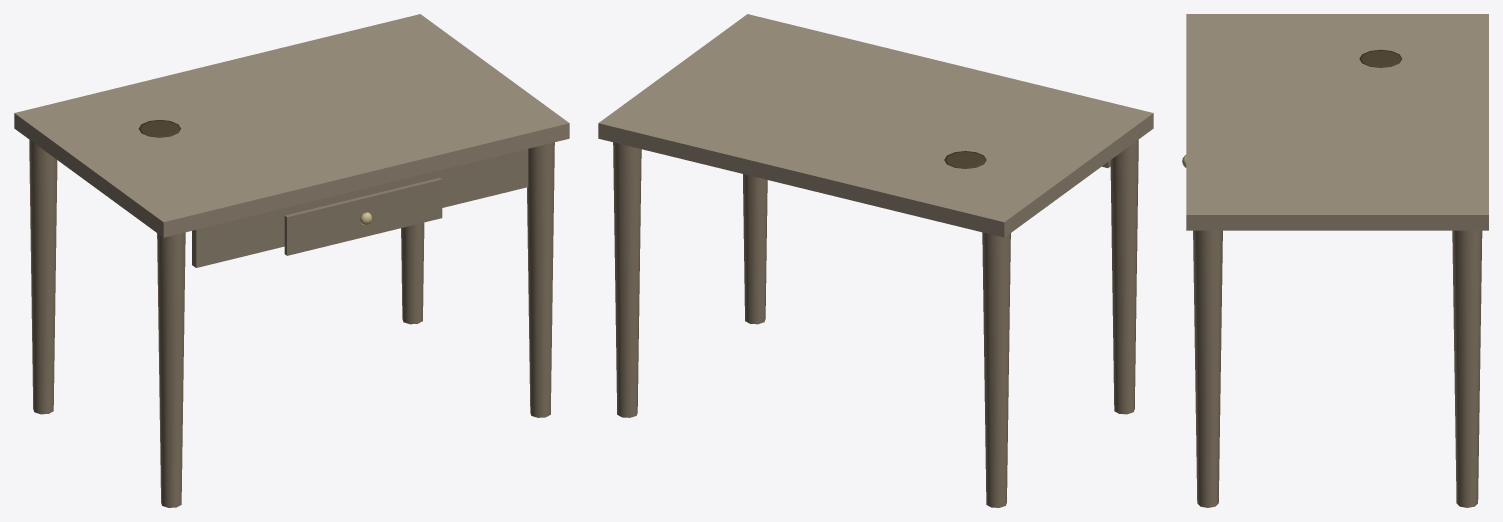
File: cabin_table_a.glb
The picture shows the model from 3 angles, left to right: view 1: azimuth 30°, elevation 25°; view 2: azimuth 150°, elevation 25°; view 3: azimuth 270°, elevation 25°; orthographic projection.
Visible parts, largest first — view 1: body; view 2: body; view 3: body.
Part boxes in pixels (bbox=[...]): body: bbox=[14, 14, 569, 507]; body: bbox=[598, 14, 1153, 507]; body: bbox=[1182, 14, 1488, 507].
Size of the model in its own units: 1.1 by 0.763 by 0.71.
